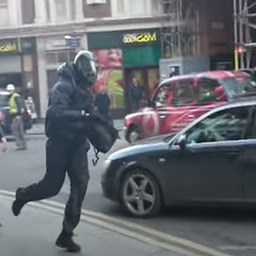person: (12, 49, 119, 254), (5, 83, 29, 151), (127, 77, 146, 113), (93, 85, 111, 121)
